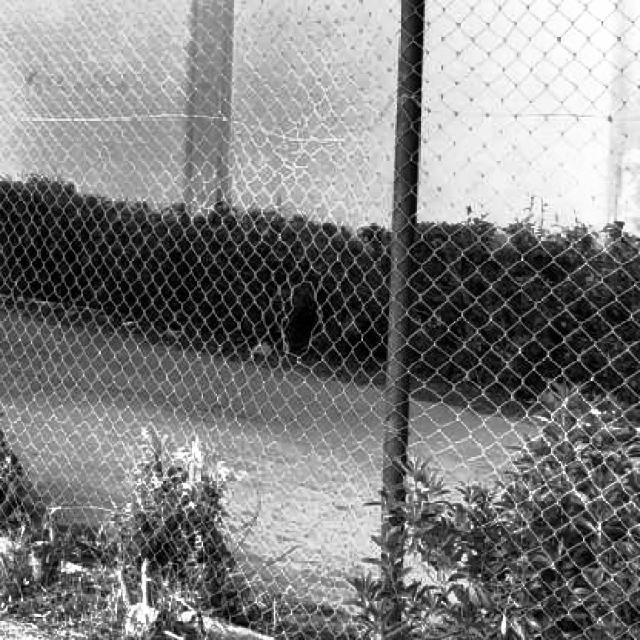anomaly-fence: (265, 250, 331, 390)
